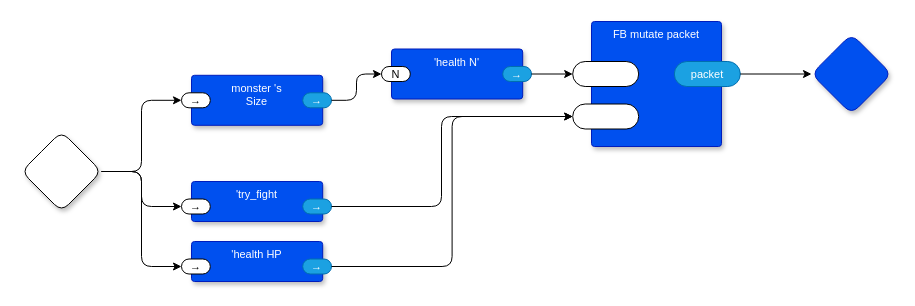
Image size: 915x306. Some labels were removed from this diagram. The centre of each missing label's shape, as x and y in pixels:
discard: [605,116]
input: [62,172]
insert: [605,73]
output: [852,75]
